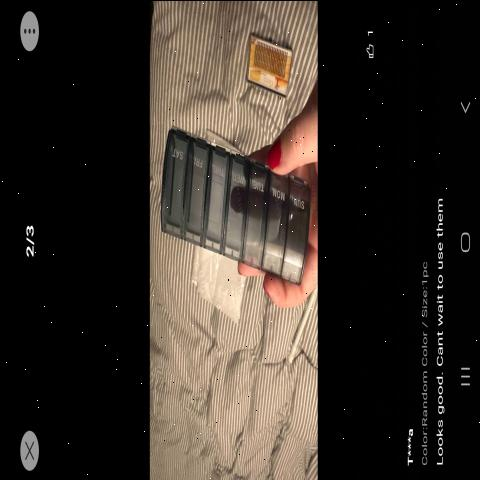PillBox: (151, 101, 309, 294)
